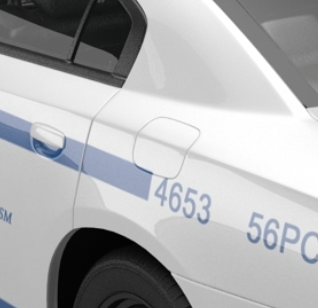hatch: (127, 111, 208, 183)
